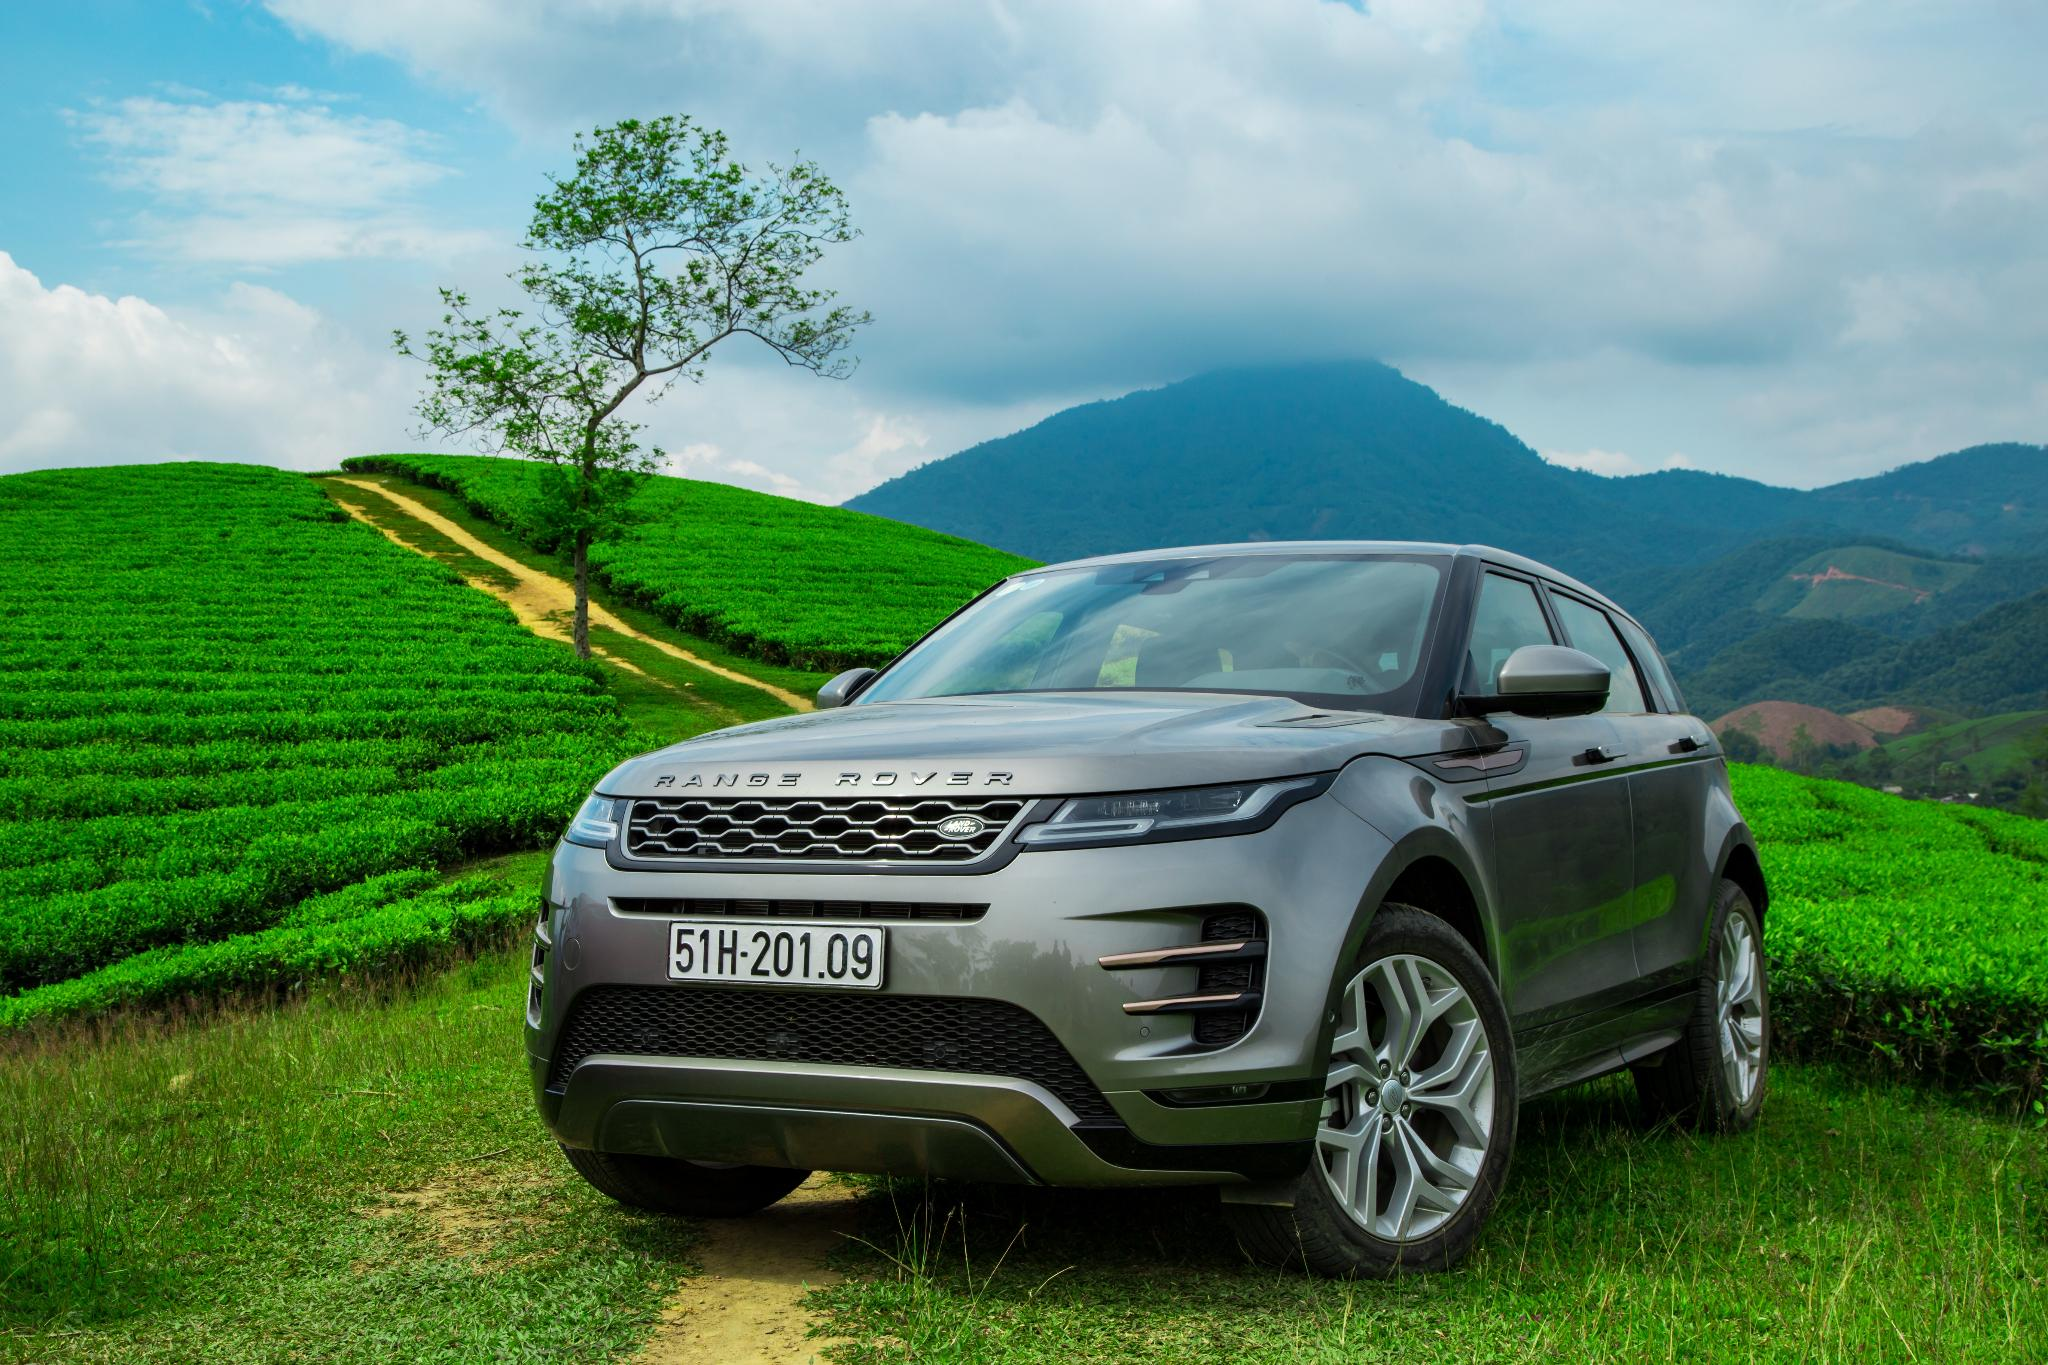range rover: (638, 751, 1045, 814)
